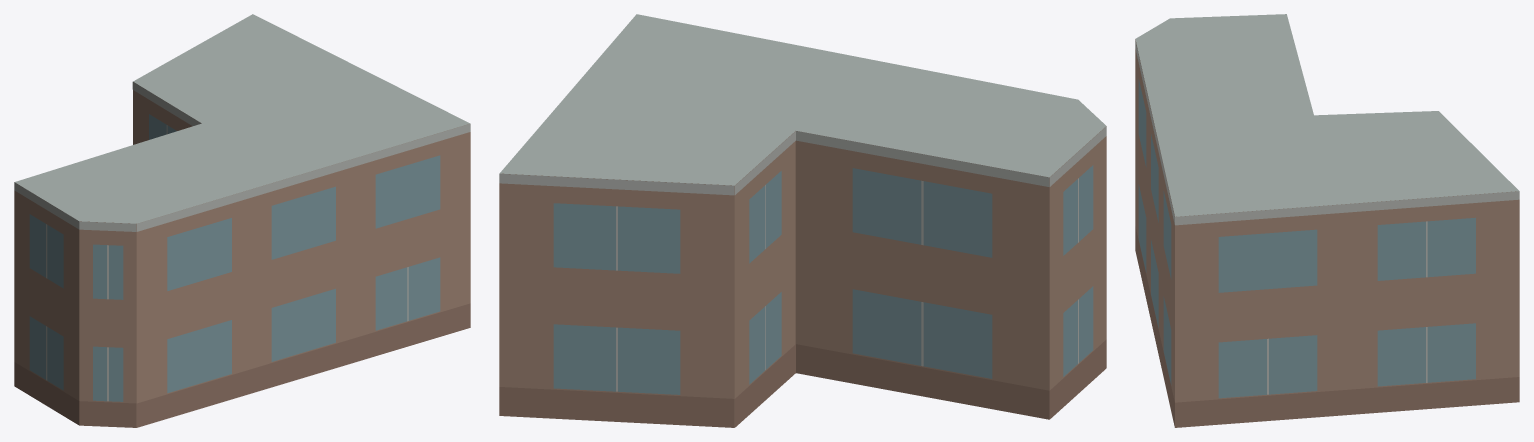
The model's file is survey-upis-32492408.glb.
3 renders of one model, left to right at view 1: azimuth 30°, elevation 25°; view 2: azimuth 150°, elevation 25°; view 3: azimuth 270°, elevation 25°, orthographic. The views are drawn at different scales.
Visible parts, largest first — view 1: survey-upis-32492408.tmp; view 2: survey-upis-32492408.tmp; view 3: survey-upis-32492408.tmp.
Part boxes in pixels (bbox=[...]): survey-upis-32492408.tmp: bbox=[14, 14, 470, 427]; survey-upis-32492408.tmp: bbox=[499, 14, 1106, 427]; survey-upis-32492408.tmp: bbox=[1135, 14, 1519, 427].
Size of the model in its own units: 12.38 by 6 by 9.91.
